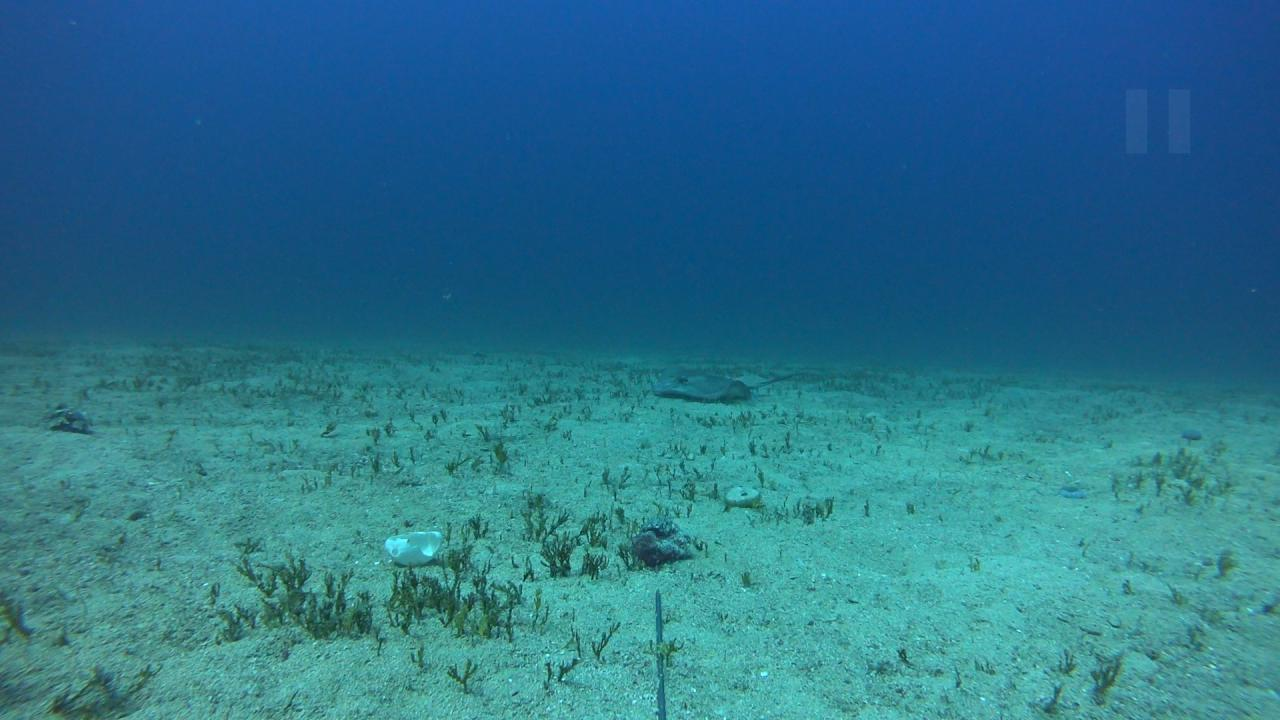dasyatis: (650, 362, 809, 402)
